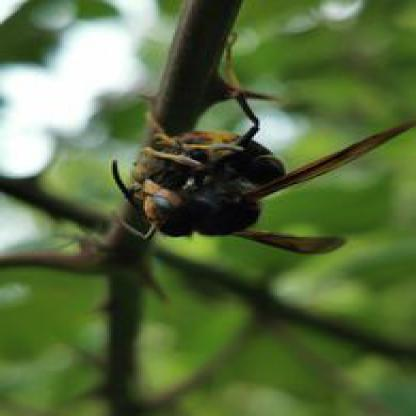Asian Hornet: (104, 77, 414, 259)
